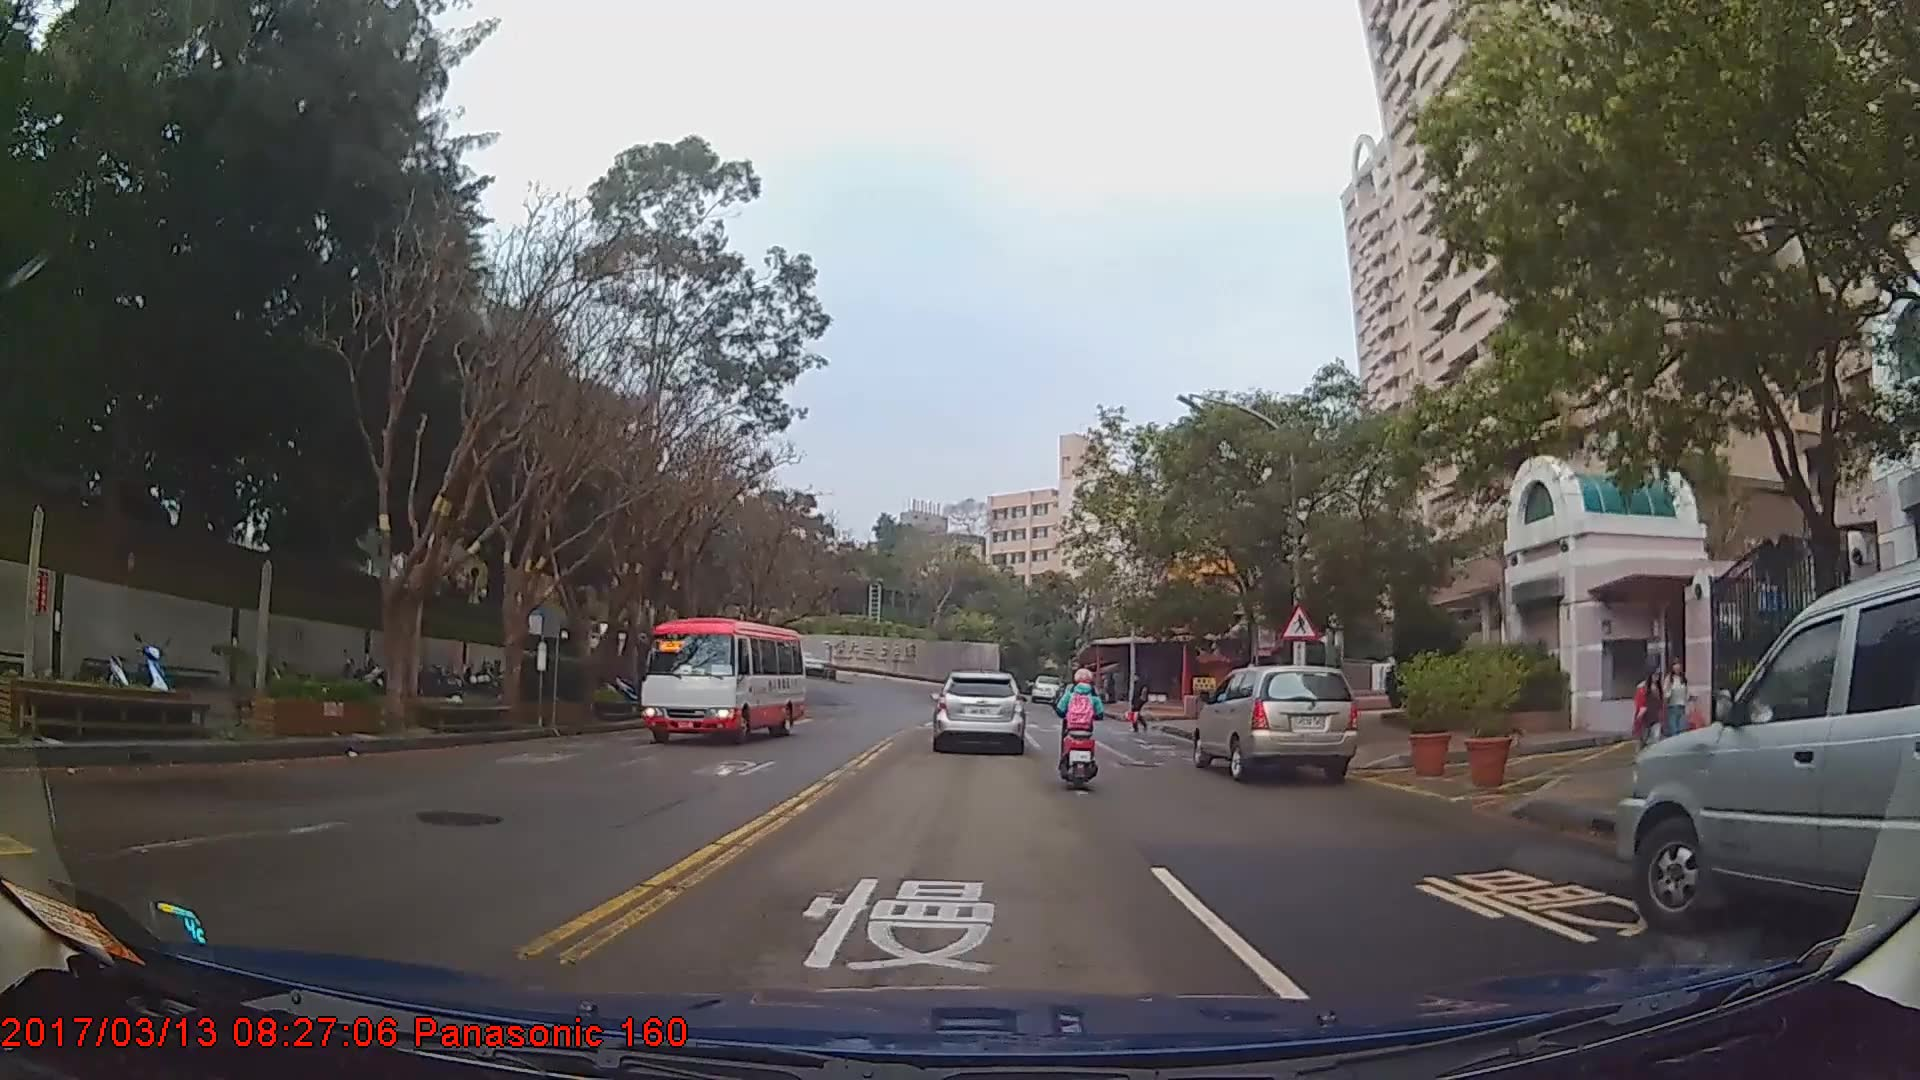pedestrian: (1655, 648, 1705, 759), (1628, 654, 1676, 772), (1127, 670, 1152, 738)
rider: (1055, 664, 1109, 794)
vehicle: (1615, 558, 1919, 936), (639, 617, 806, 745), (1190, 664, 1357, 784), (928, 672, 1025, 756), (1029, 675, 1062, 702)
